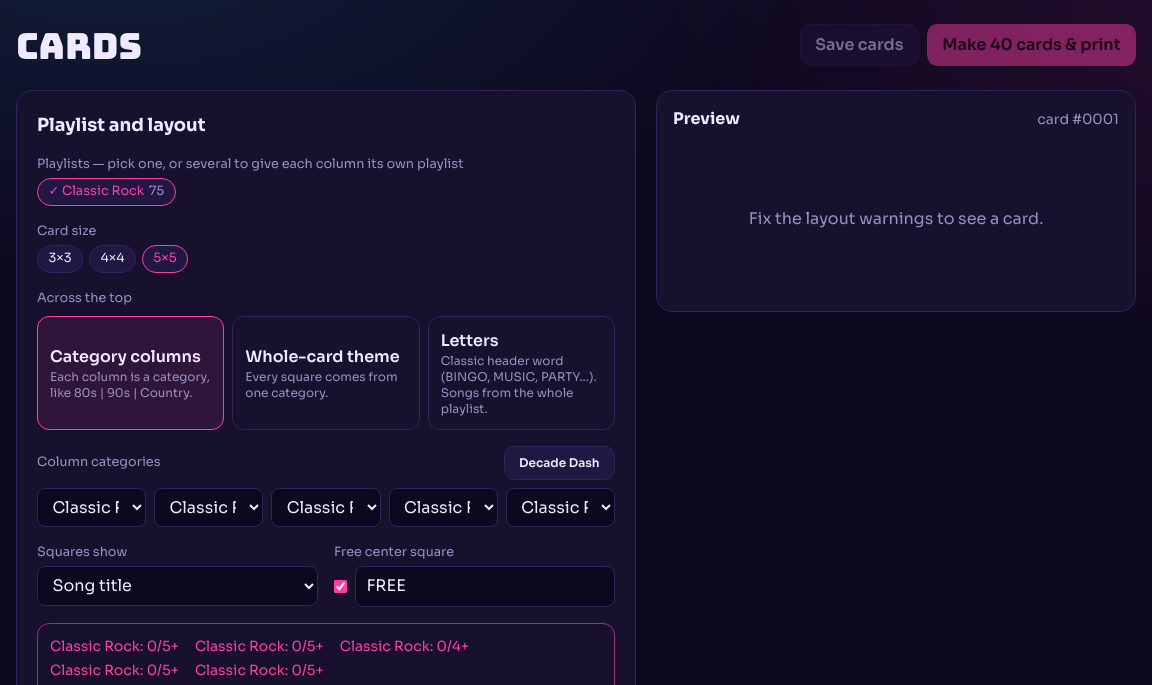
Scenario: whole-card theme defaults to the whole playlist even if an empty category exists
Click the button "Whole-card theme Every square comes from one category." at [326, 373], box [232,316,420,430]
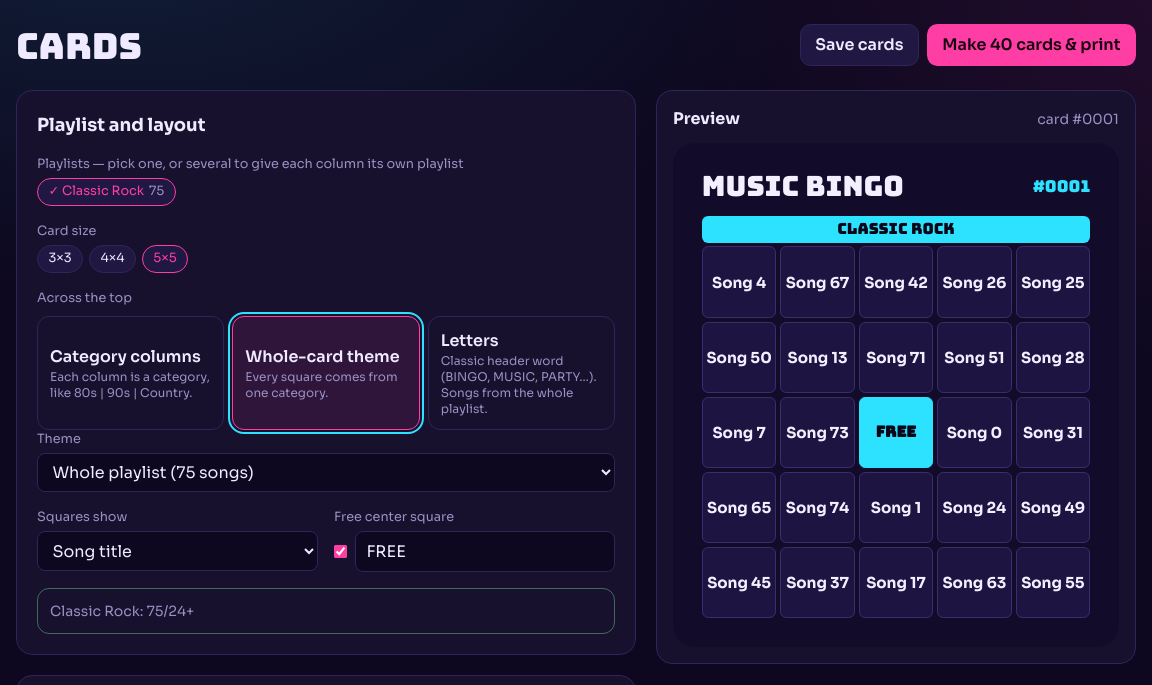
Now the dropdown labelled "Theme" shows "Whole playlist (75 songs)", box [37,453,615,492]
Now the button "Save cards" is enabled, box [800,24,919,66]
